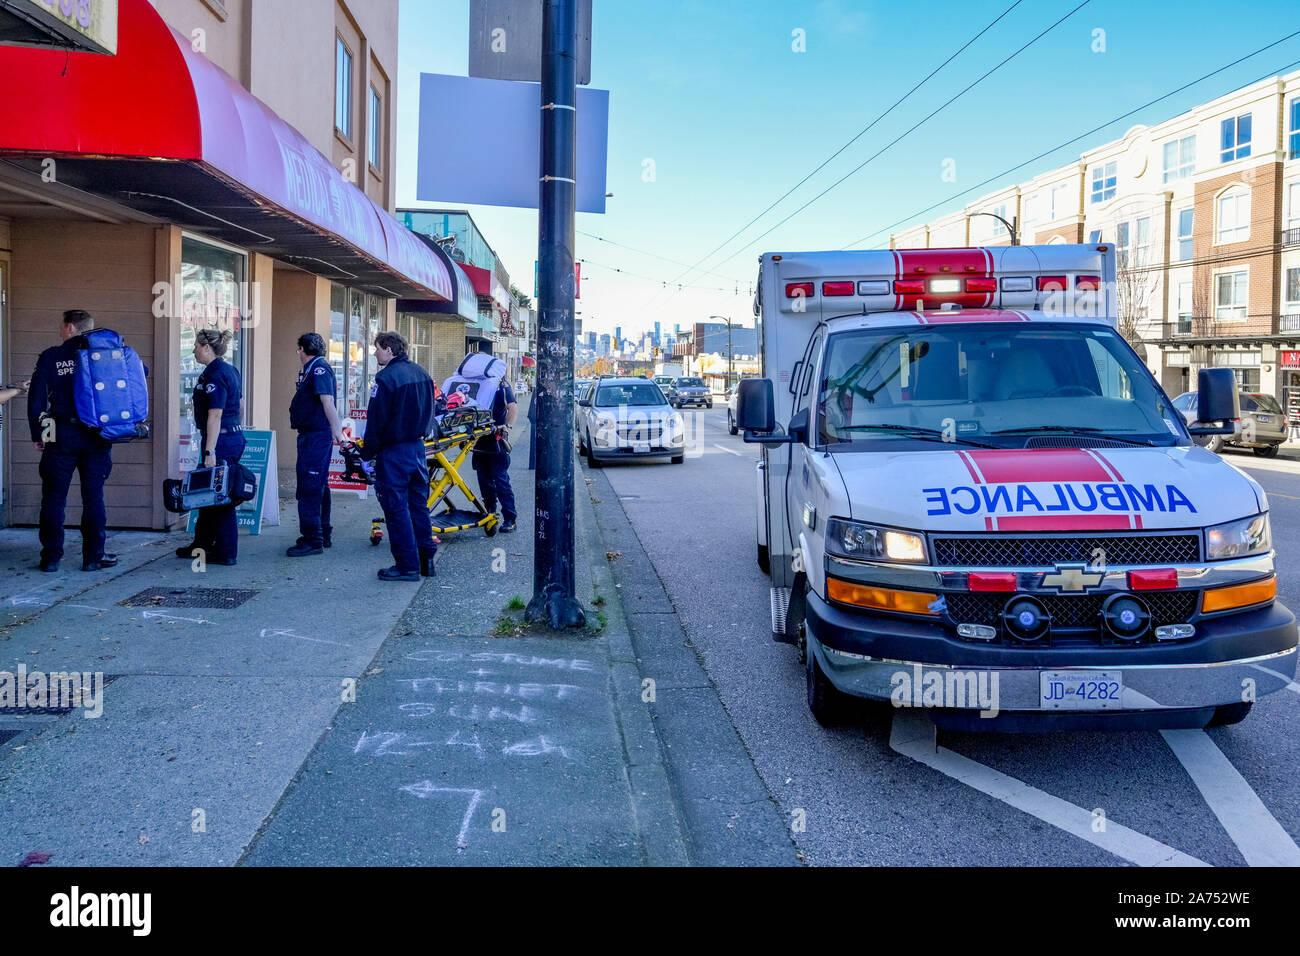ambulance_on: (738, 251, 1290, 741)
